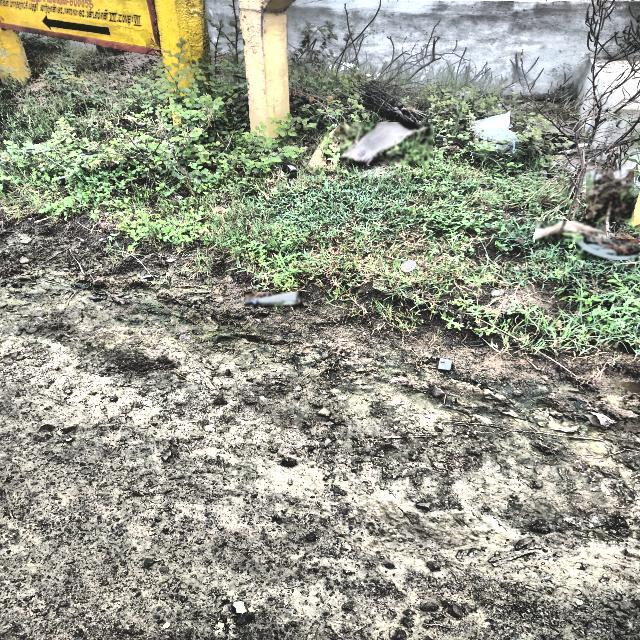anorganik: (469, 111, 520, 156), (535, 222, 606, 242), (577, 240, 640, 260), (245, 292, 302, 307), (282, 163, 298, 179), (401, 261, 417, 273)
organik: (340, 122, 433, 164), (586, 169, 634, 222)
